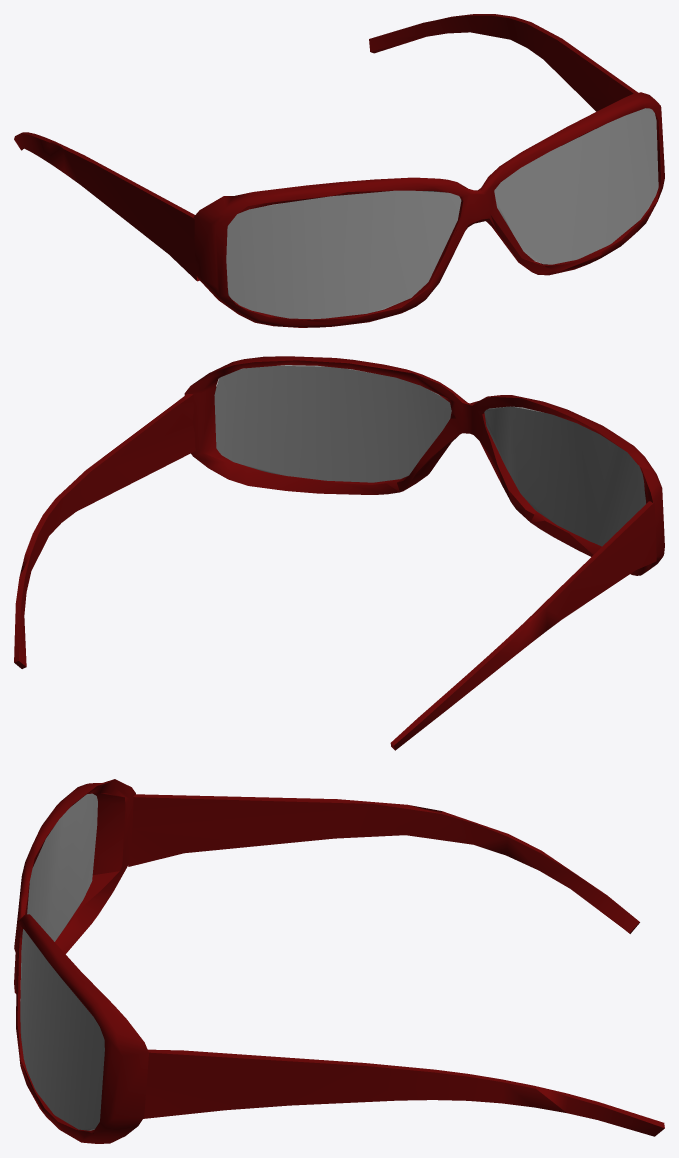
File: Glasses.FBX
3 renders of one model, top to bottom at view 1: azimuth 30°, elevation 25°; view 2: azimuth 150°, elevation 25°; view 3: azimuth 270°, elevation 25°, orthographic. The views are drawn at different scales.
Parts seen in each view (by area): view 1: glasses; view 2: glasses; view 3: glasses.
Part boxes in pixels (box(x1,y1,x2,y2)): glasses: box(14, 14, 664, 327); glasses: box(14, 356, 664, 750); glasses: box(14, 779, 664, 1143).
Size of the model in its own units: 13.86 by 3.8 by 14.17.
